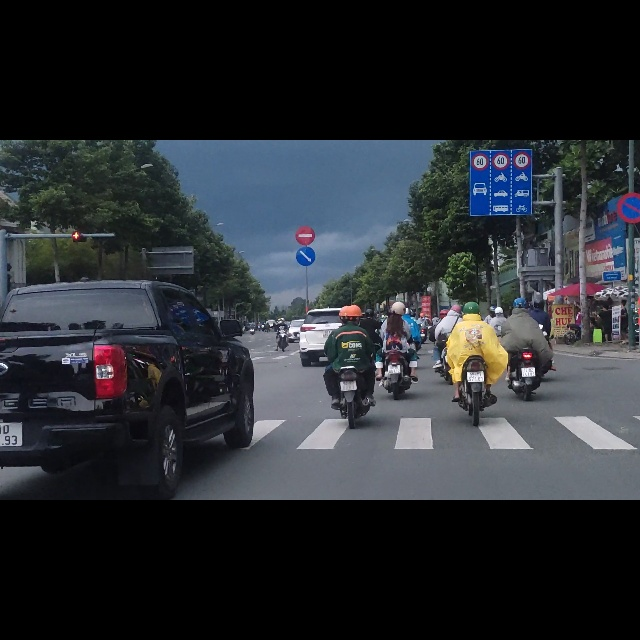bien_cam: (470, 15, 532, 133), (617, 93, 640, 148), (295, 189, 316, 225), (295, 152, 316, 188)
